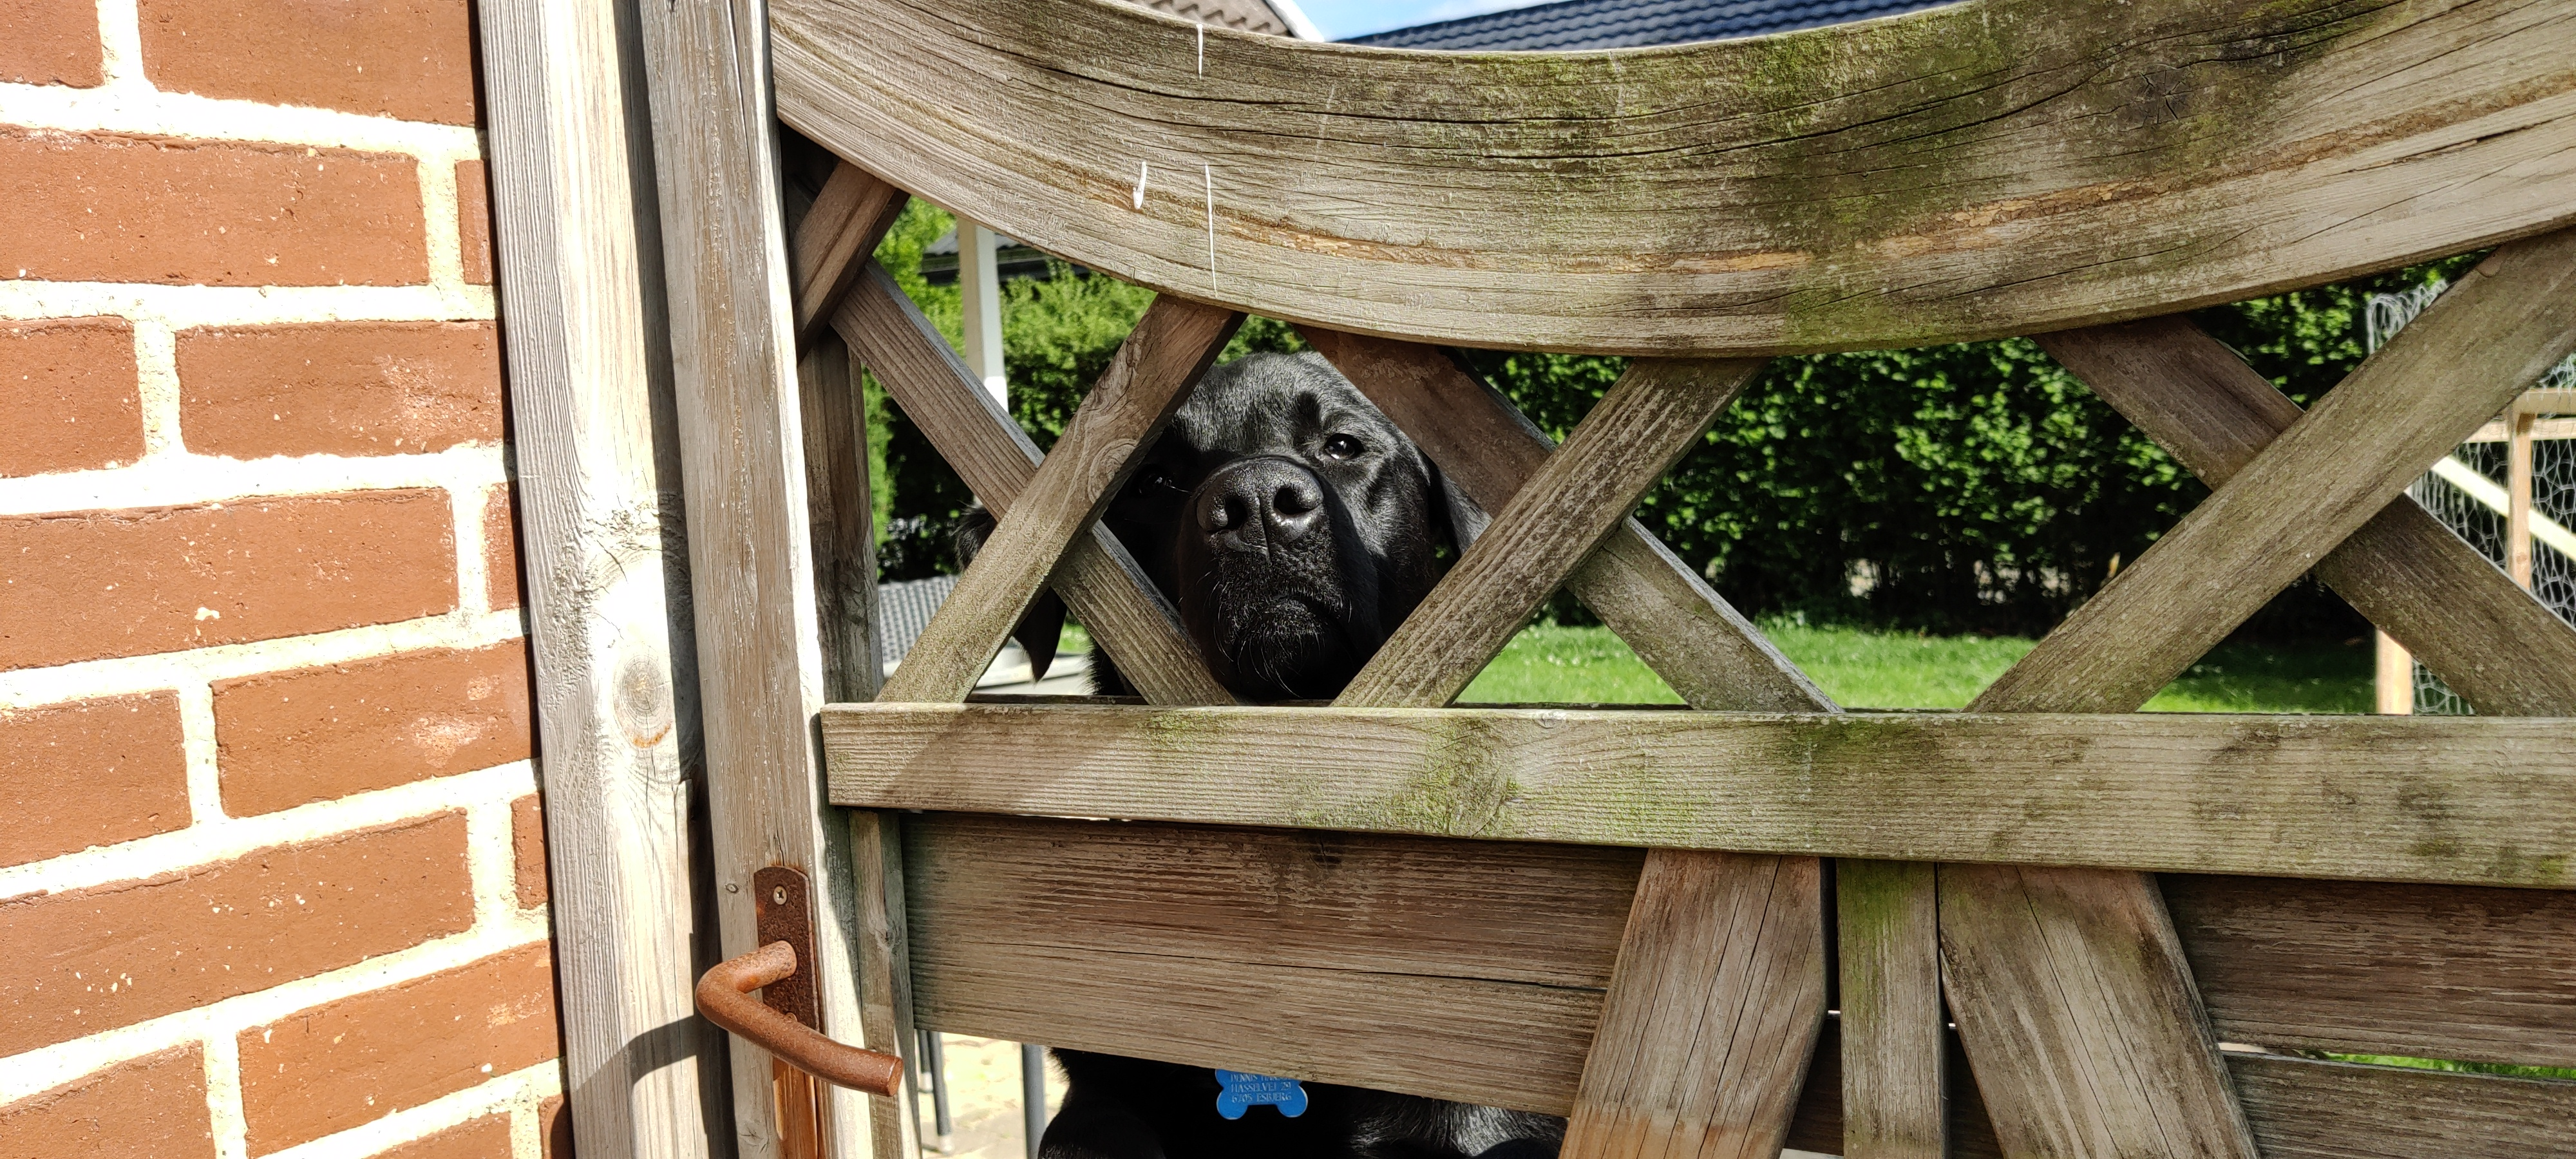Dog: (977, 309, 1592, 1156)
